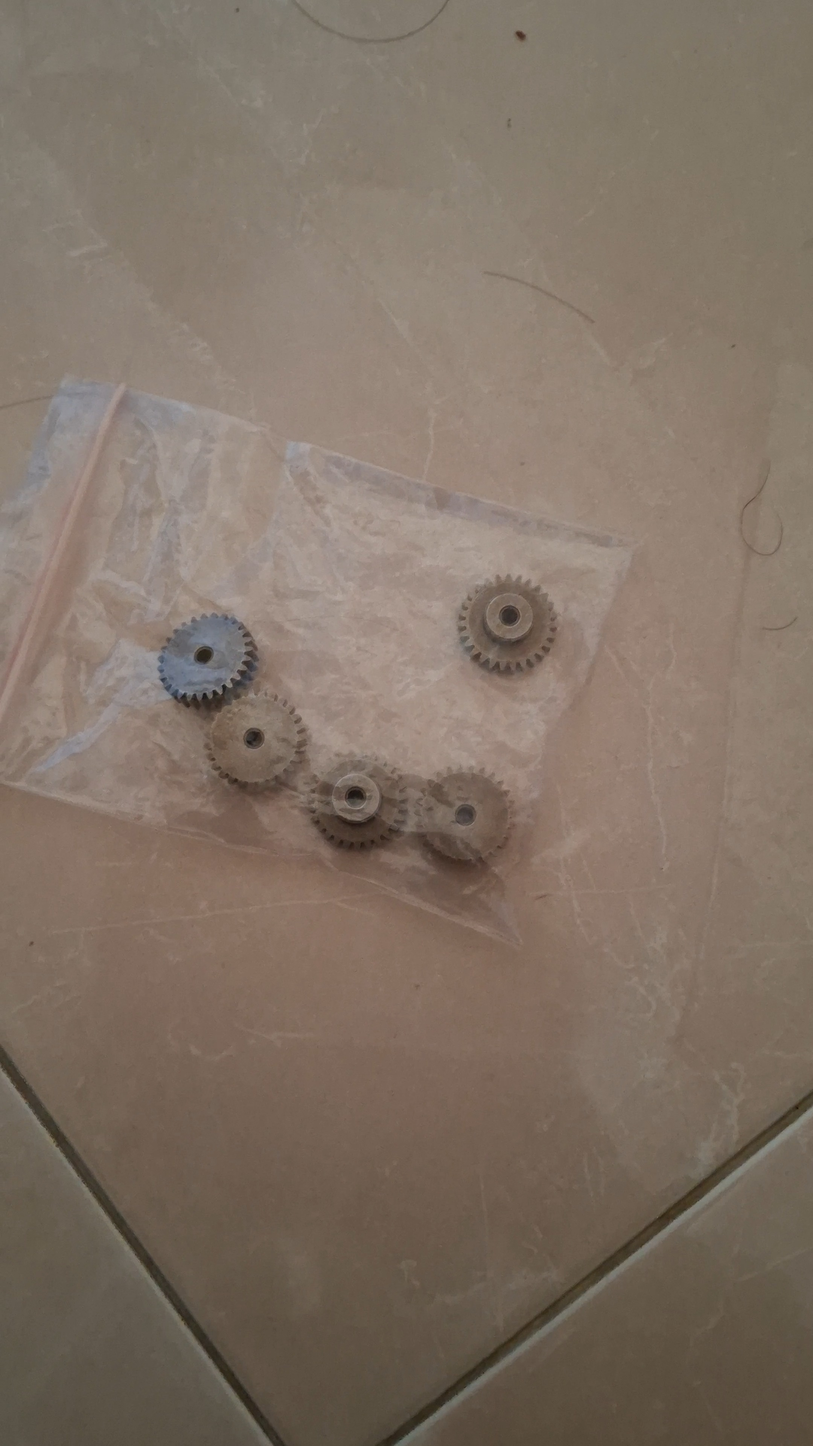spur gear: (207, 692, 306, 789), (458, 577, 556, 672), (158, 615, 257, 706), (309, 757, 406, 848), (421, 769, 510, 862)
